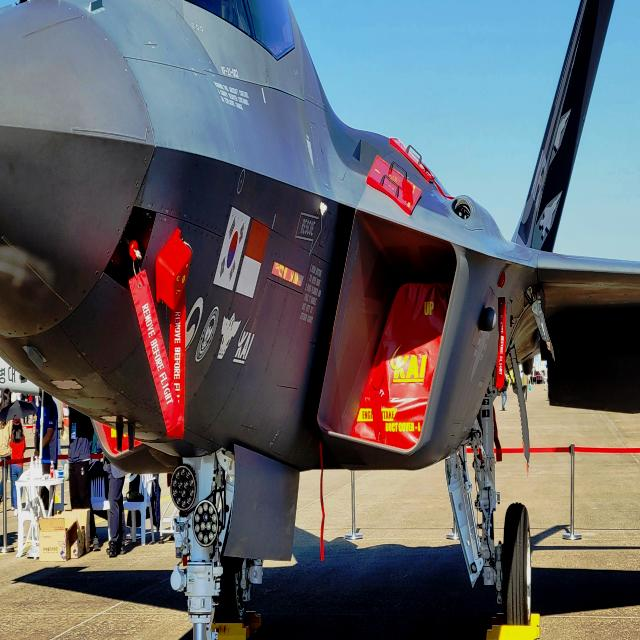Aircraft: (1, 0, 638, 637)
